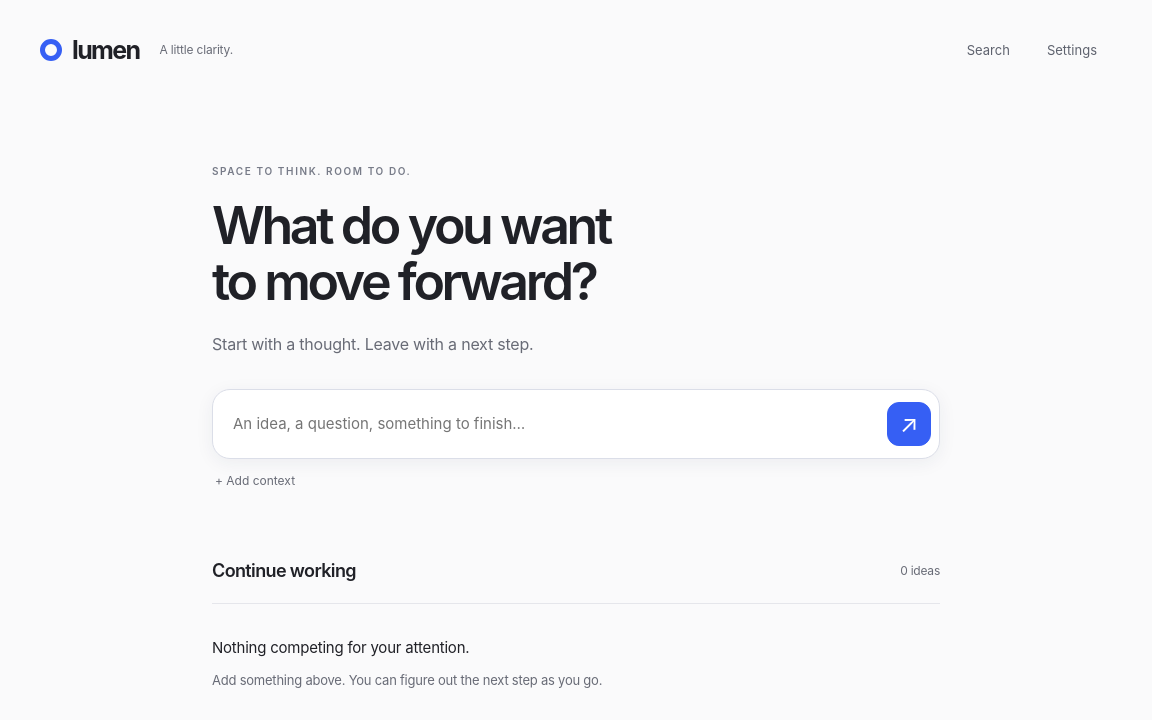
it: offers one capture field and opens the captured idea without advanced controls
The image size is (1152, 720).
Check: the heading "What do you want to move forward?" is shown, box x1=212 y1=194 x2=610 y2=313
Type "Prepare for an interview" into the field named "New idea" at (550, 424), box x1=221 y1=398 x2=879 y2=450
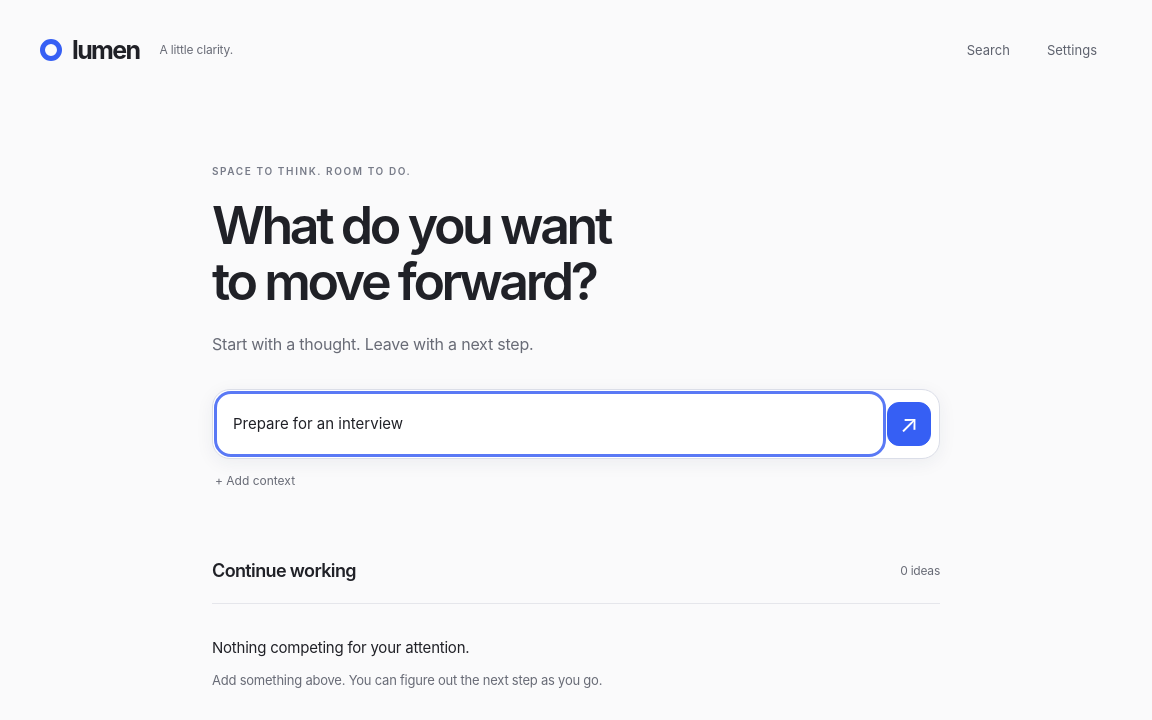
Click the button named "Add idea" at (909, 424), box x1=887 y1=402 x2=931 y2=446
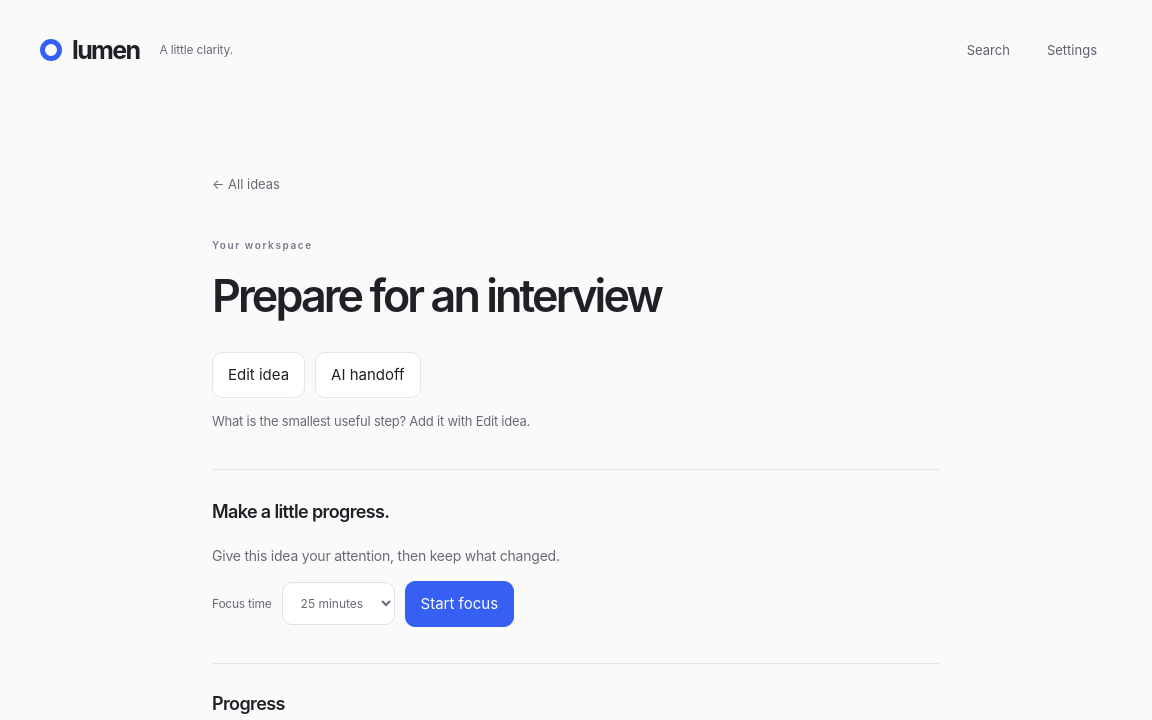
Check: the heading "Prepare for an interview" is shown, box x1=212 y1=268 x2=661 y2=322
